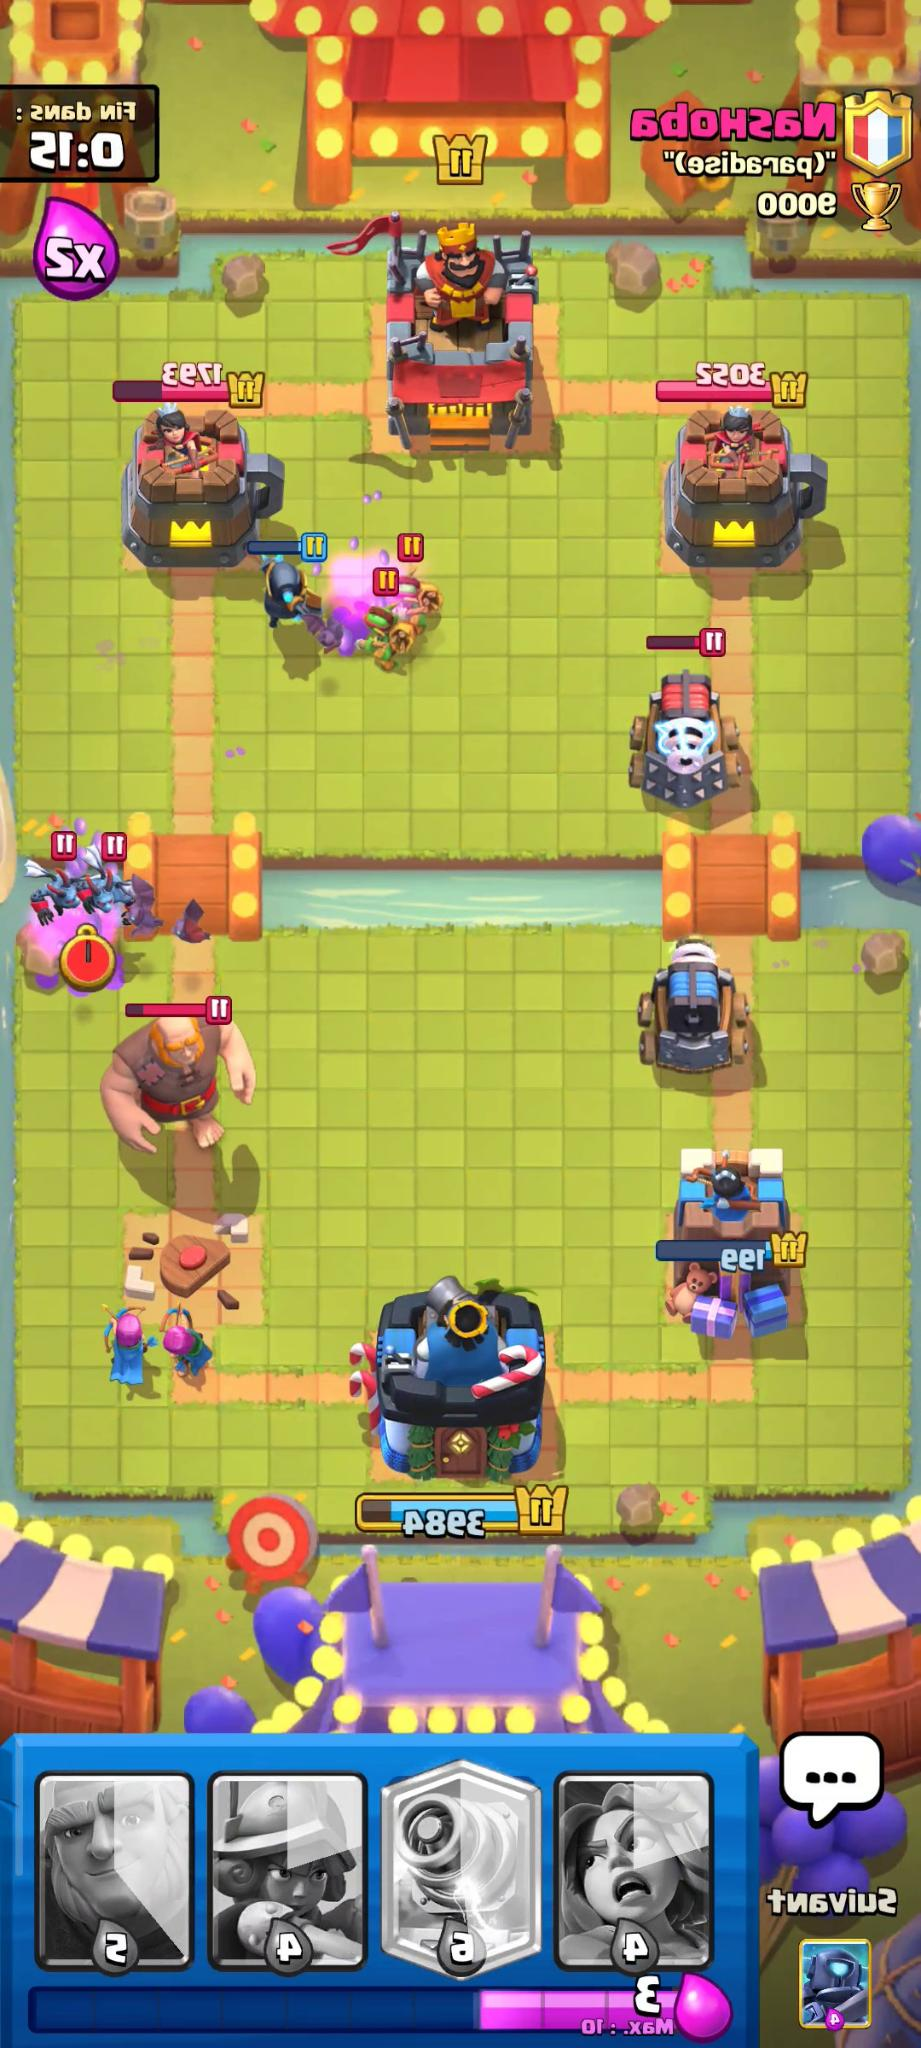archere: (157, 1309, 204, 1366), (108, 1315, 141, 1392)
bat: (170, 897, 226, 957), (110, 878, 163, 929)
gargouille: (21, 857, 89, 923), (105, 849, 144, 934)
geant: (107, 1019, 244, 1149)
gobelin_lances: (392, 563, 464, 624), (357, 602, 414, 666)
mini_PEKKA: (256, 549, 307, 652)
zappy: (619, 662, 737, 789), (651, 946, 734, 1109)
